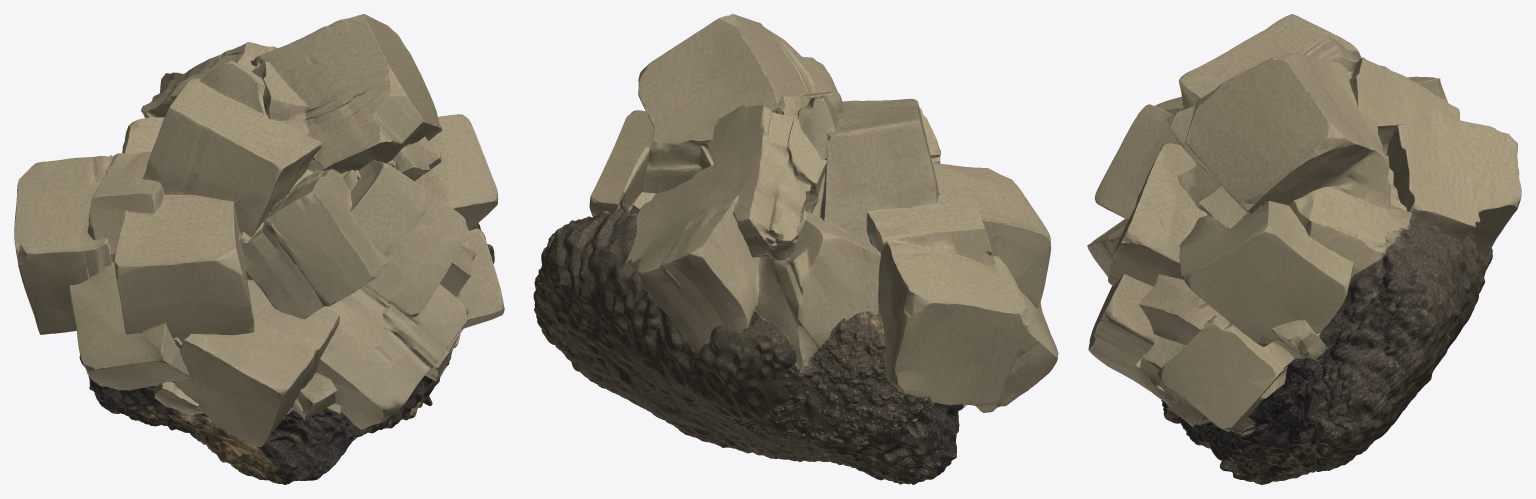
File: pyrite.glb
The picture shows the model from 3 angles, left to right: view 1: azimuth 30°, elevation 25°; view 2: azimuth 150°, elevation 25°; view 3: azimuth 270°, elevation 25°; orthographic projection. The views are drawn at different scales.
Visible parts, largest first — view 1: Mesh_0; view 2: Mesh_0; view 3: Mesh_0.
Boxes of the visible parts, box(x1,y1,x2,y2) form: Mesh_0: box(14, 14, 504, 484); Mesh_0: box(533, 14, 1058, 484); Mesh_0: box(1087, 14, 1521, 484).
Size of the model in its own units: 1.9 by 1.59 by 1.48.
Materials: 1 (1 with a texture image).
